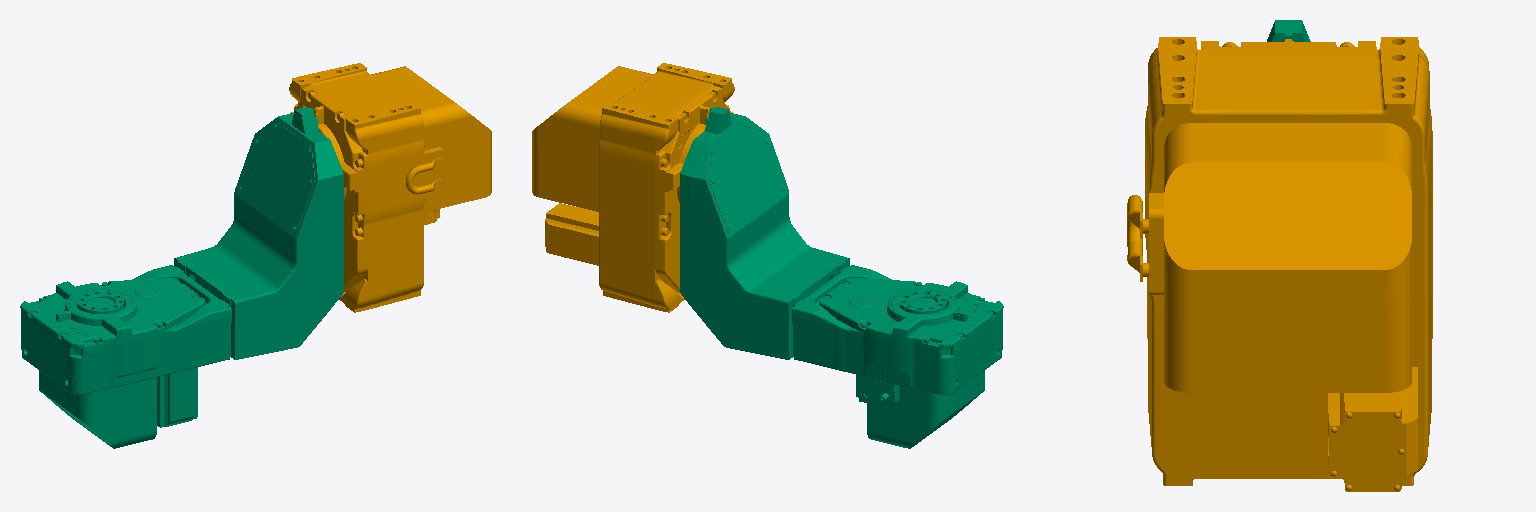
The robot description file, URDF, robot "Irbpa-750_D1000-H700_IRC5_rev02_CAD":
<?xml version="1.0" ?>
<robot name="Irbpa-750_D1000-H700_IRC5_rev02_CAD">

<link name="base_link">
  <inertial>
    <origin xyz="0.8178227923700941 0.046728801444920844 0.8721145690357031" rpy="0 0 0"/>
    <mass value="0.006752990496073456"/>
    <inertia ixx="0.000507" iyy="0.000462" izz="0.000256" ixy="-1.9e-05" iyz="0.000124" ixz="6.3e-05"/>
  </inertial>
  <visual>
    <origin xyz="0 0 0" rpy="0 0 0"/>
    <geometry>
      <mesh filename="package://Irbpa-750_D1000-H700_IRC5_rev02_CAD_description/meshes/base_link.stl" scale="0.001 0.001 0.001"/>
    </geometry>
    <material name="silver"/>
  </visual>
  <collision>
    <origin xyz="0 0 0" rpy="0 0 0"/>
    <geometry>
      <mesh filename="package://Irbpa-750_D1000-H700_IRC5_rev02_CAD_description/meshes/base_link.stl" scale="0.001 0.001 0.001"/>
    </geometry>
  </collision>
</link>

<link name="Irbpa-750_D1000-H700_IRC5_rev02_base750A_CAD_1">
  <inertial>
    <origin xyz="0.1111376986085143 0.15965330927087412 -0.2811561945472616" rpy="0 0 0"/>
    <mass value="931.5476234514706"/>
    <inertia ixx="45.054451" iyy="55.446775" izz="56.062973" ixy="0.106209" iyz="0.034228" ixz="-7.833296"/>
  </inertial>
  <visual>
    <origin xyz="-0.776 0.16 -0.498" rpy="0 0 0"/>
    <geometry>
      <mesh filename="package://Irbpa-750_D1000-H700_IRC5_rev02_CAD_description/meshes/Irbpa-750_D1000-H700_IRC5_rev02_base750A_CAD_1.stl" scale="0.001 0.001 0.001"/>
    </geometry>
    <material name="silver"/>
  </visual>
  <collision>
    <origin xyz="-0.776 0.16 -0.498" rpy="0 0 0"/>
    <geometry>
      <mesh filename="package://Irbpa-750_D1000-H700_IRC5_rev02_CAD_description/meshes/Irbpa-750_D1000-H700_IRC5_rev02_base750A_CAD_1.stl" scale="0.001 0.001 0.001"/>
    </geometry>
  </collision>
</link>

<link name="Irbpa-750_D1000-H700_IRC5_rev02_MTD750_CAD_1">
  <inertial>
    <origin xyz="-0.5359023182928626 -0.0033357651582613694 -0.3630446970410325" rpy="0 0 0"/>
    <mass value="511.1252334711674"/>
    <inertia ixx="22.821939" iyy="53.57062" izz="41.278051" ixy="0.038996" iyz="-0.339125" ixz="-19.039643"/>
  </inertial>
  <visual>
    <origin xyz="-0.722 0.0 -0.9" rpy="0 0 0"/>
    <geometry>
      <mesh filename="package://Irbpa-750_D1000-H700_IRC5_rev02_CAD_description/meshes/Irbpa-750_D1000-H700_IRC5_rev02_MTD750_CAD_1.stl" scale="0.001 0.001 0.001"/>
    </geometry>
    <material name="silver"/>
  </visual>
  <collision>
    <origin xyz="-0.722 0.0 -0.9" rpy="0 0 0"/>
    <geometry>
      <mesh filename="package://Irbpa-750_D1000-H700_IRC5_rev02_CAD_description/meshes/Irbpa-750_D1000-H700_IRC5_rev02_MTD750_CAD_1.stl" scale="0.001 0.001 0.001"/>
    </geometry>
  </collision>
</link>

<link name="Irbpa-750_D1000-H700_IRC5_rev02_platter_d450_CAD_1">
  <inertial>
    <origin xyz="-0.0011124864300729666 -5.688668147784807e-15 0.04336786560053996" rpy="0 0 0"/>
    <mass value="21.25030383337227"/>
    <inertia ixx="0.228504" iyy="0.231342" izz="0.446816" ixy="0.0" iyz="-0.0" ixz="-0.000583"/>
  </inertial>
  <visual>
    <origin xyz="0.0 0.0 -0.638" rpy="0 0 0"/>
    <geometry>
      <mesh filename="package://Irbpa-750_D1000-H700_IRC5_rev02_CAD_description/meshes/Irbpa-750_D1000-H700_IRC5_rev02_platter_d450_CAD_1.stl" scale="0.001 0.001 0.001"/>
    </geometry>
    <material name="silver"/>
  </visual>
  <collision>
    <origin xyz="0.0 0.0 -0.638" rpy="0 0 0"/>
    <geometry>
      <mesh filename="package://Irbpa-750_D1000-H700_IRC5_rev02_CAD_description/meshes/Irbpa-750_D1000-H700_IRC5_rev02_platter_d450_CAD_1.stl" scale="0.001 0.001 0.001"/>
    </geometry>
  </collision>
</link>

<joint name="Rigid 4" type="fixed">
  <origin xyz="0.776 -0.16 0.498" rpy="0 0 0"/>
  <parent link="base_link"/>
  <child link="Irbpa-750_D1000-H700_IRC5_rev02_base750A_CAD_1"/>
</joint>

<joint name="j1" type="continuous">
  <origin xyz="0.722 0.0 0.9" rpy="0 0 0"/>
  <parent link="base_link"/>
  <child link="Irbpa-750_D1000-H700_IRC5_rev02_MTD750_CAD_1"/>
  <axis xyz="-1.0 -0.0 0.0"/>
</joint>

<joint name="j2" type="continuous">
  <origin xyz="-0.722 0.0 -0.262" rpy="0 0 0"/>
  <parent link="Irbpa-750_D1000-H700_IRC5_rev02_MTD750_CAD_1"/>
  <child link="Irbpa-750_D1000-H700_IRC5_rev02_platter_d450_CAD_1"/>
  <axis xyz="-0.0 0.0 -1.0"/>
</joint>

</robot>

--- What the picture shows (computed from the rendered views, not written in the file) ---
The picture shows the robot from 3 angles, left to right: view 1: azimuth 30°, elevation 25°; view 2: azimuth 150°, elevation 25°; view 3: azimuth 270°, elevation 25°; orthographic projection.
Robot: Irbpa-750_D1000-H700_IRC5_rev02_CAD — 4 links, 3 joints (2 continuous, 1 fixed); root link base_link; default pose: every joint at zero.
Links seen in each view (by area): view 1: Irbpa-750_D1000-H700_IRC5_rev02_MTD750_CAD_1, base_link; view 2: Irbpa-750_D1000-H700_IRC5_rev02_MTD750_CAD_1, base_link; view 3: base_link, Irbpa-750_D1000-H700_IRC5_rev02_MTD750_CAD_1.
Link boxes in pixels (x1=…): Irbpa-750_D1000-H700_IRC5_rev02_MTD750_CAD_1: x1=20, y1=107, x2=343, y2=448; base_link: x1=289, y1=63, x2=491, y2=312; Irbpa-750_D1000-H700_IRC5_rev02_MTD750_CAD_1: x1=680, y1=107, x2=1003, y2=448; base_link: x1=532, y1=63, x2=734, y2=312; base_link: x1=1127, y1=37, x2=1432, y2=491; Irbpa-750_D1000-H700_IRC5_rev02_MTD750_CAD_1: x1=1267, y1=20, x2=1310, y2=41.
Size in the robot's own frame: 1.44 by 0.443 by 0.9025 metres.
Meshes: 4 distinct files referenced, 2 mesh visuals loaded (2 binary STL); not drawn: 2 (reference not matched to a file when rendering).